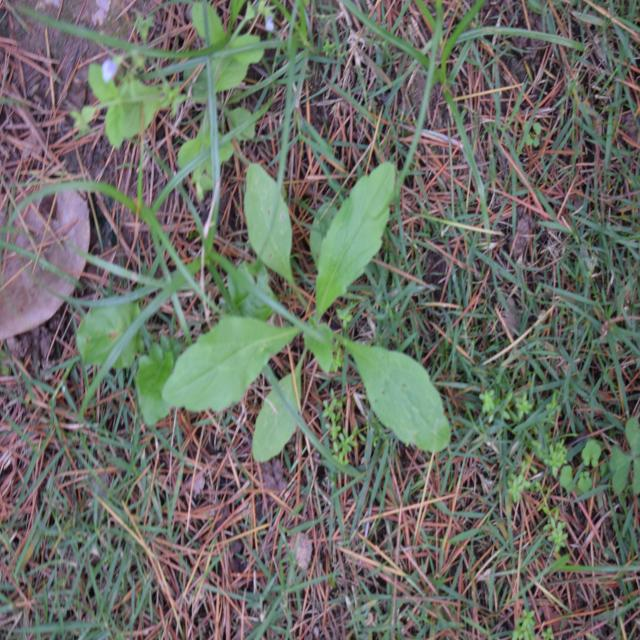horseweed: (159, 194, 474, 460)
